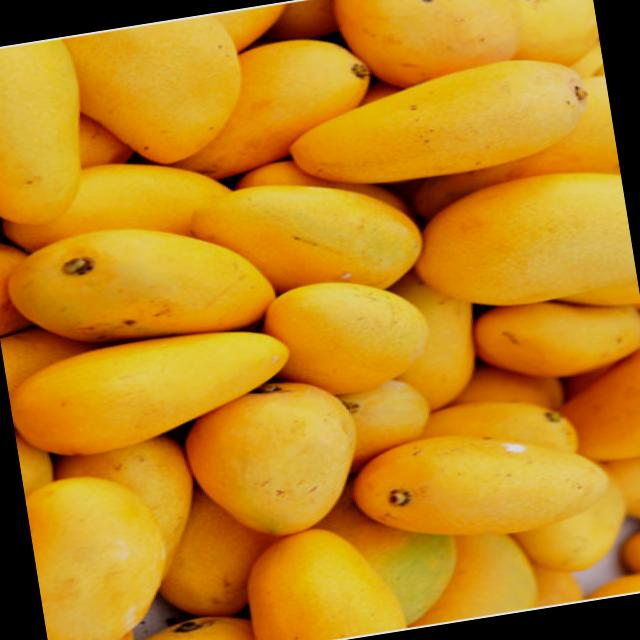mango: (287, 48, 604, 200), (0, 204, 279, 364), (7, 318, 300, 466), (348, 410, 616, 558), (185, 162, 426, 316), (406, 163, 638, 320), (155, 28, 381, 187), (178, 375, 366, 547), (24, 464, 178, 640), (254, 266, 438, 405), (239, 517, 407, 640), (334, 0, 529, 98), (0, 39, 98, 228), (471, 285, 640, 388)
